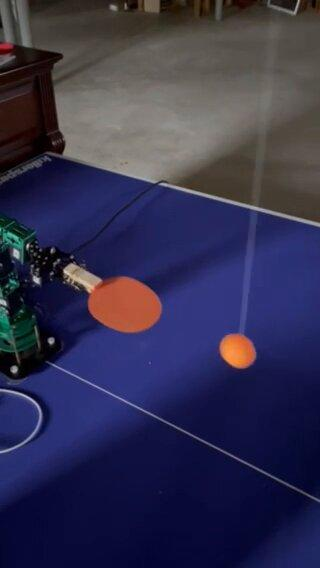oball: (218, 334, 256, 367)
